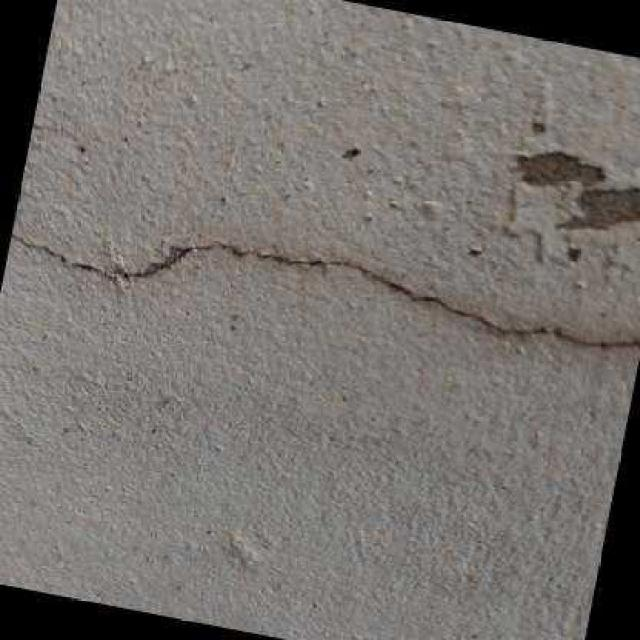D00: (10, 230, 640, 347)
